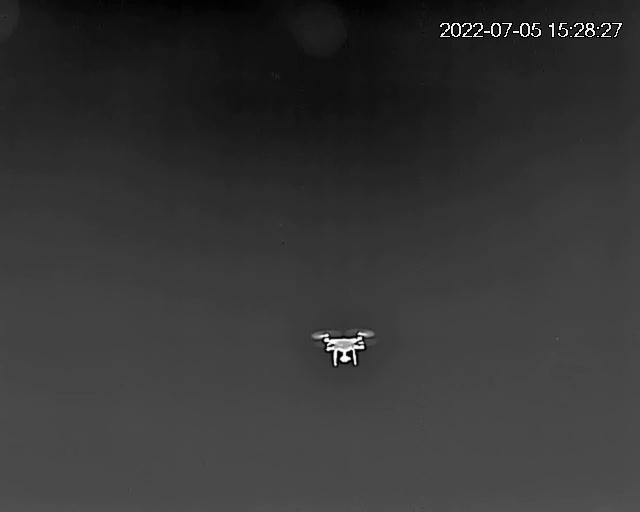DJI-Phantom: (314, 329, 376, 366)
